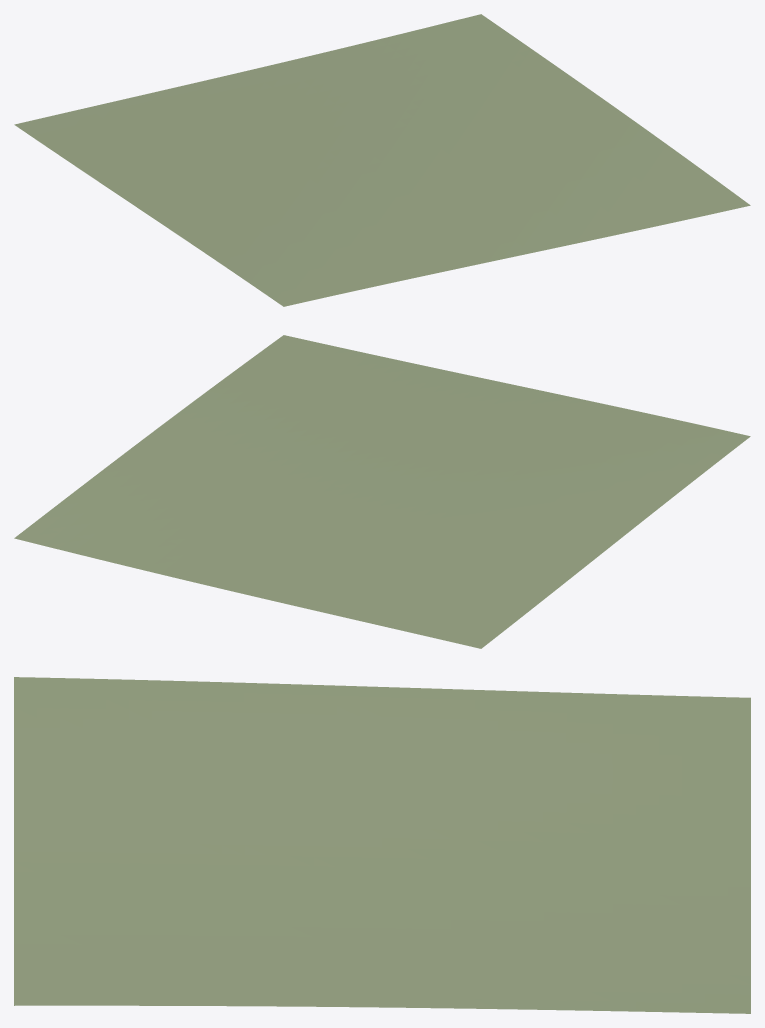
The model's file is expanse-2-20.glb.
3 renders of one model, top to bottom at view 1: azimuth 30°, elevation 25°; view 2: azimuth 150°, elevation 25°; view 3: azimuth 270°, elevation 25°, orthographic. The views are drawn at different scales.
Parts seen in each view (by area): view 1: expanse-2-20; view 2: expanse-2-20; view 3: expanse-2-20.
Boxes of the visible parts, bbox=[...] form: expanse-2-20: bbox=[14, 14, 750, 306]; expanse-2-20: bbox=[14, 335, 750, 648]; expanse-2-20: bbox=[14, 677, 750, 1013].
Bounding box in the file's own units: 256 × 9.91 × 256.
